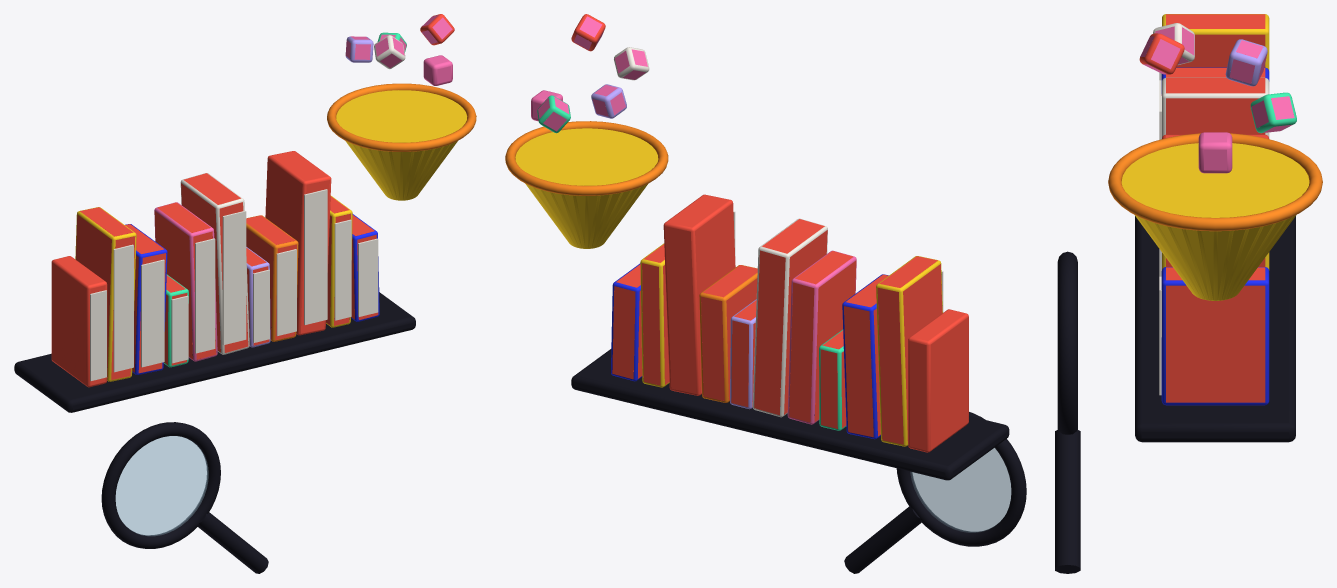
The model's file is library.glb.
3 renders of one model, left to right at view 1: azimuth 30°, elevation 25°; view 2: azimuth 150°, elevation 25°; view 3: azimuth 270°, elevation 25°, orthographic. The views are drawn at different scales.
Parts seen in each view (by area): view 1: books, bob_lens, funnel, base, bob_chunks; view 2: books, funnel, base, bob_lens, bob_chunks; view 3: books, funnel, base, bob_lens, bob_chunks.
Boxes of the visible parts, bbox=[...] form: books: bbox=[51, 151, 379, 387]; bob_lens: bbox=[101, 422, 268, 573]; funnel: bbox=[327, 83, 476, 200]; base: bbox=[14, 292, 415, 412]; bob_chunks: bbox=[345, 14, 454, 85]; books: bbox=[611, 194, 968, 452]; funnel: bbox=[505, 121, 668, 248]; base: bbox=[571, 349, 1009, 480]; bob_lens: bbox=[844, 412, 1026, 573]; bob_chunks: bbox=[531, 14, 649, 133]; books: bbox=[1159, 14, 1269, 405]; funnel: bbox=[1108, 133, 1322, 300]; base: bbox=[1135, 216, 1295, 442]; bob_lens: bbox=[1055, 251, 1080, 573]; bob_chunks: bbox=[1139, 23, 1296, 173].
Size of the model in its own units: 10.5 by 11.37 by 3.99.
